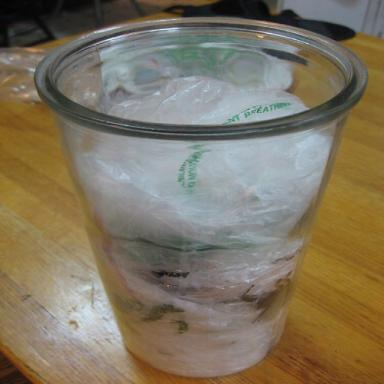plasticbag: (55, 64, 344, 376)
